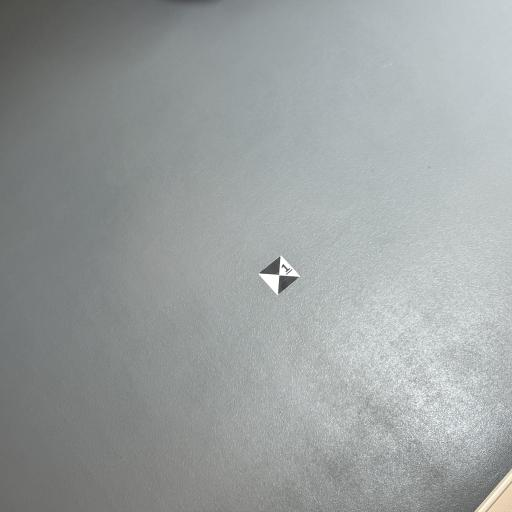target1: (256, 253, 300, 296)
